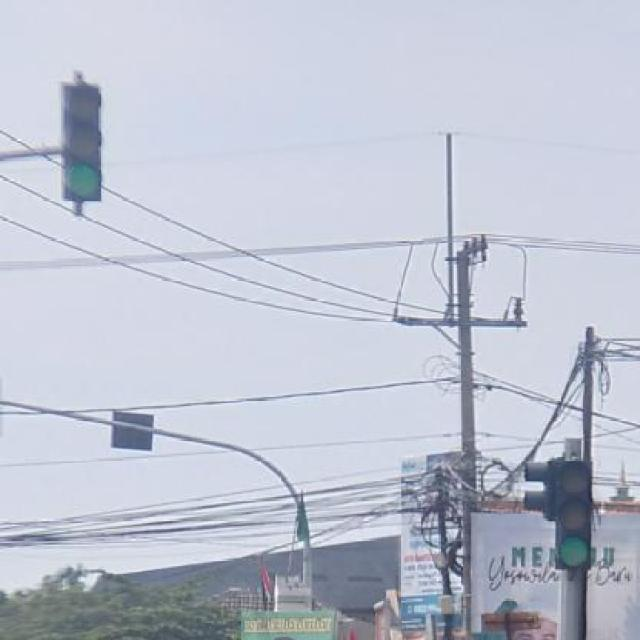green light: (62, 87, 103, 207), (556, 458, 592, 572)
